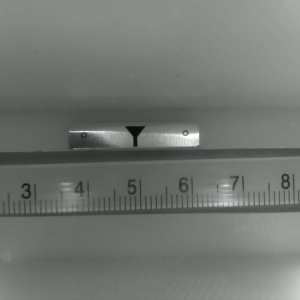3: (20, 184, 31, 199)
4: (73, 182, 84, 196)
5: (127, 179, 136, 195)
6: (177, 176, 187, 193)
7: (229, 175, 238, 192)
8: (280, 173, 289, 189)
finger: (124, 126, 145, 147)
